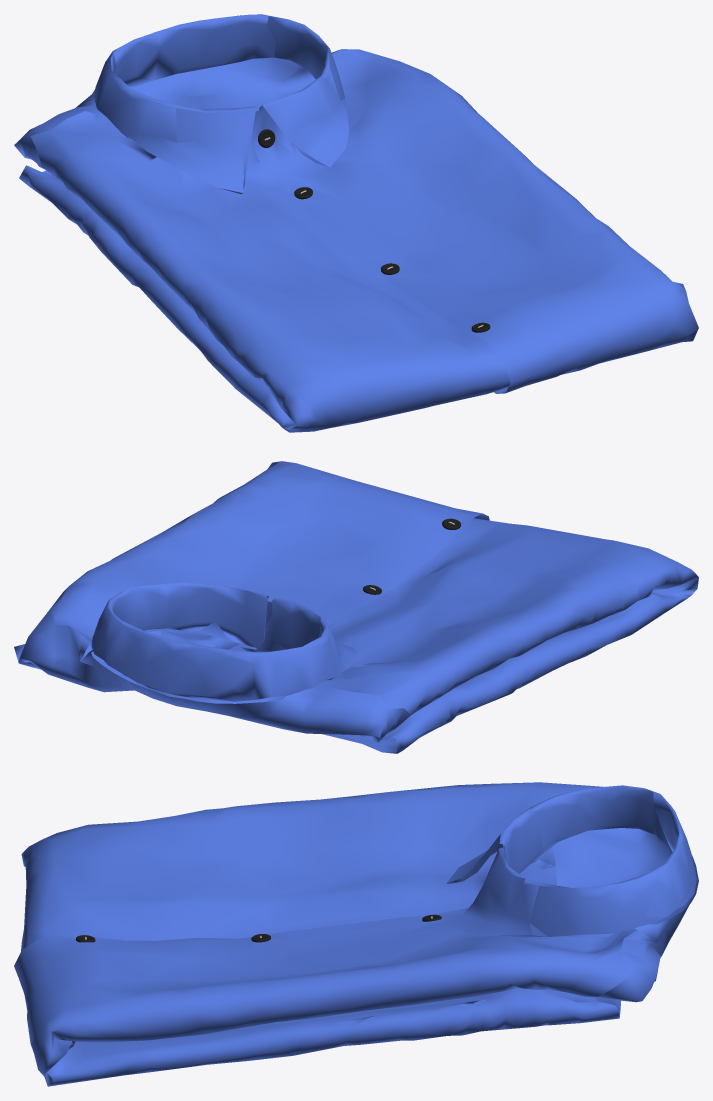
Rendered from folded_cloth.gltf.
3 views of the same model, one above another, from view 1: azimuth 30°, elevation 25°; view 2: azimuth 150°, elevation 25°; view 3: azimuth 270°, elevation 25° (orthographic). The views are drawn at different scales.
Visible parts, largest first — view 1: cloth_4__68___68___68___68___68_, collar_4__68___68___68___68___68_; view 2: cloth_4__68___68___68___68___68_, collar_4__68___68___68___68___68_; view 3: cloth_4__68___68___68___68___68_, collar_4__68___68___68___68___68_.
Boxes of the visible parts, x1,y1,x2,y2 form: cloth_4__68___68___68___68___68_: (14, 49, 698, 432); collar_4__68___68___68___68___68_: (94, 14, 349, 193); cloth_4__68___68___68___68___68_: (14, 461, 698, 753); collar_4__68___68___68___68___68_: (91, 582, 357, 701); cloth_4__68___68___68___68___68_: (14, 782, 698, 1086); collar_4__68___68___68___68___68_: (446, 785, 696, 936).
Bounding box in the file's own units: 0.3382 × 0.1135 × 0.4643.
